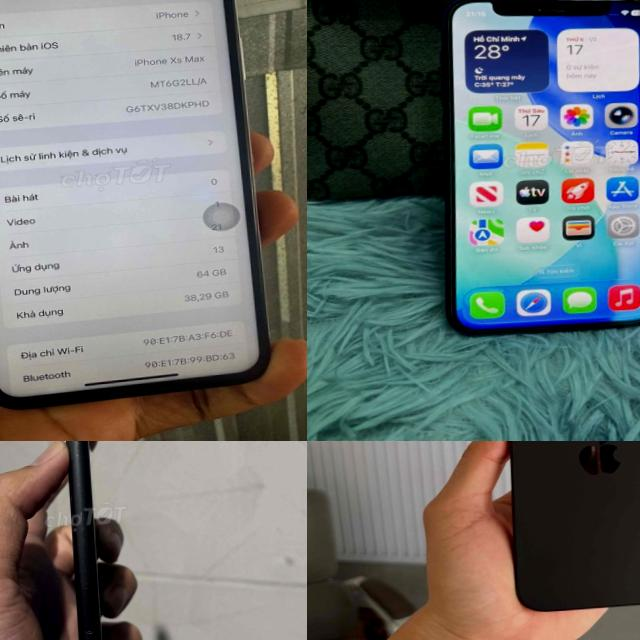scratch: (65, 441, 98, 600)
